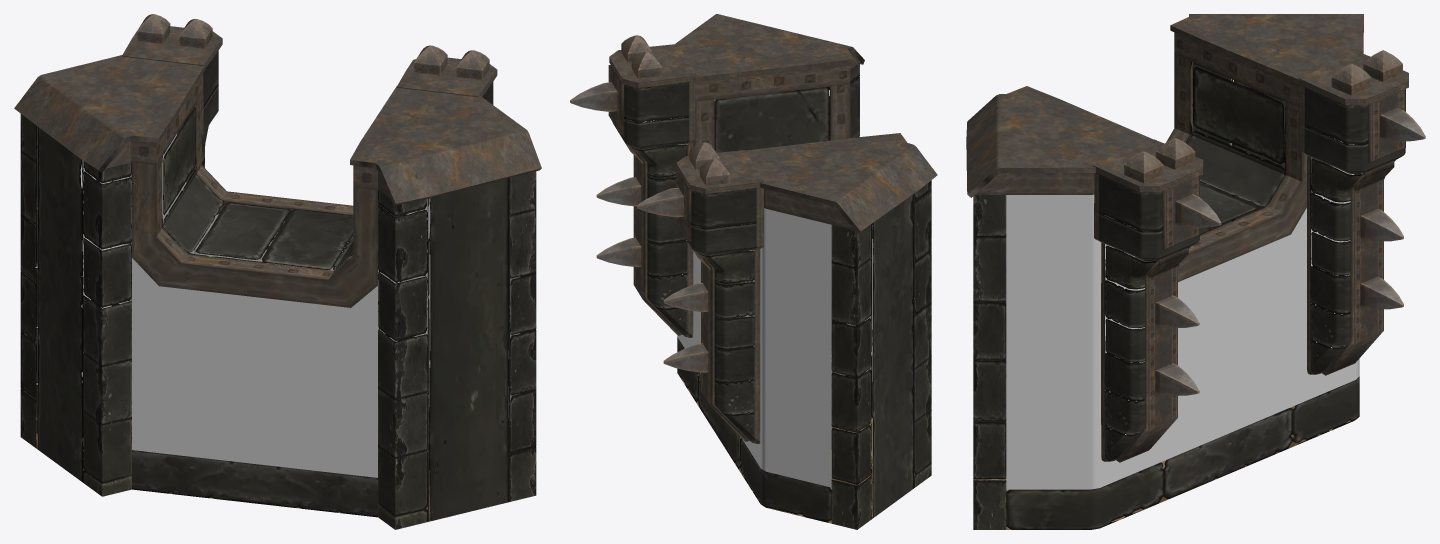
The picture shows the model from 3 angles, left to right: view 1: azimuth 30°, elevation 25°; view 2: azimuth 150°, elevation 25°; view 3: azimuth 270°, elevation 25°; orthographic projection. The views are drawn at different scales.
Visible parts, largest first — view 1: SM_Greathall_Stepout_Corner_Cap_01_LOD0; view 2: SM_Greathall_Stepout_Corner_Cap_01_LOD0; view 3: SM_Greathall_Stepout_Corner_Cap_01_LOD0.
Part boxes in pixels (x1,y1,x2,y2): SM_Greathall_Stepout_Corner_Cap_01_LOD0: (14, 14, 541, 529); SM_Greathall_Stepout_Corner_Cap_01_LOD0: (570, 14, 937, 529); SM_Greathall_Stepout_Corner_Cap_01_LOD0: (966, 14, 1425, 529).
Size of the model in its own units: 5.23 by 4.87 by 5.23.
Materials: 4 (3 with a texture image).
